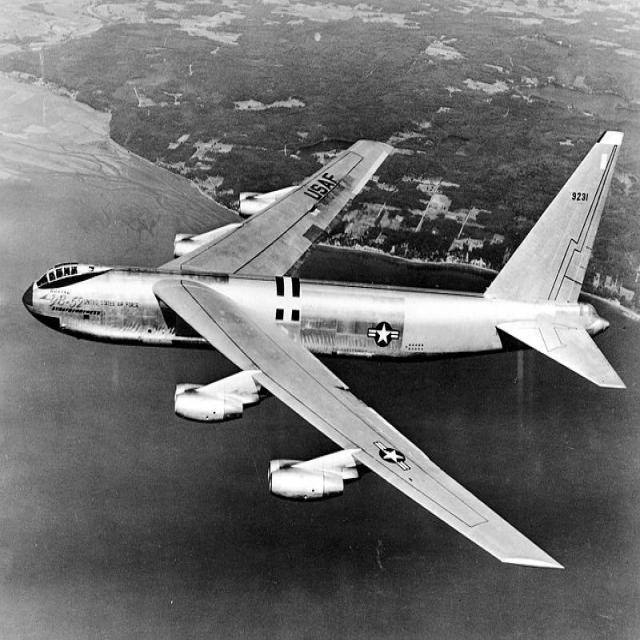B52: (9, 80, 640, 592)
